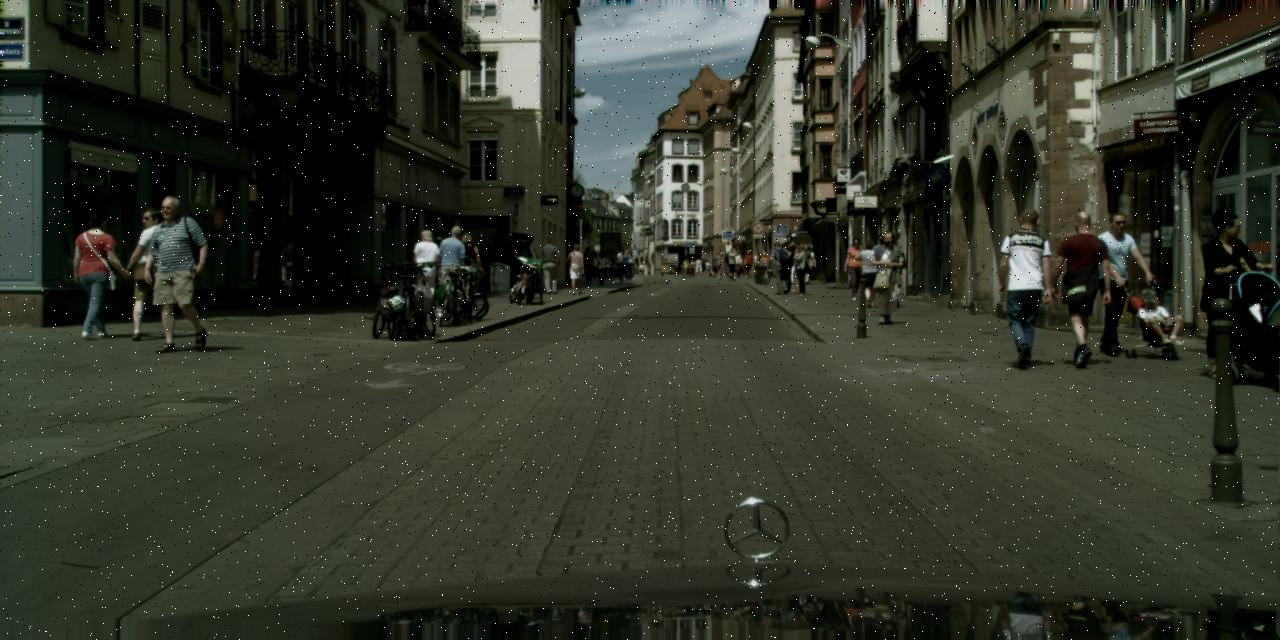ped: (1195, 208, 1264, 380), (994, 208, 1060, 368), (1050, 210, 1114, 368), (145, 196, 208, 350), (1087, 212, 1145, 355), (127, 207, 181, 340), (73, 211, 124, 339), (866, 230, 906, 326), (431, 224, 467, 314), (408, 230, 441, 312), (423, 228, 452, 300), (454, 232, 482, 302), (856, 242, 882, 308), (868, 234, 894, 299), (842, 237, 867, 301), (776, 235, 800, 293), (539, 238, 561, 294), (768, 240, 789, 294), (566, 244, 587, 294), (791, 244, 811, 295), (516, 244, 534, 292), (788, 242, 805, 284), (580, 246, 595, 283), (798, 246, 813, 283), (801, 246, 815, 282), (614, 248, 628, 282), (725, 248, 739, 282), (620, 249, 634, 282), (594, 252, 608, 284), (742, 250, 754, 279), (588, 250, 600, 278), (716, 252, 726, 280), (759, 251, 769, 278), (732, 250, 742, 276), (603, 256, 612, 279), (752, 252, 760, 272), (709, 258, 716, 278), (682, 258, 689, 276), (694, 259, 701, 275), (700, 258, 706, 276), (704, 259, 710, 277), (689, 259, 695, 275), (638, 262, 644, 274), (646, 262, 651, 274)
